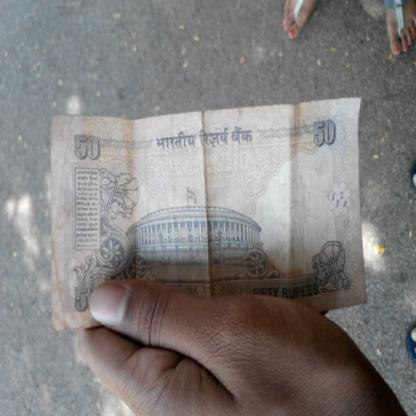Old50Back: (51, 98, 367, 330)
